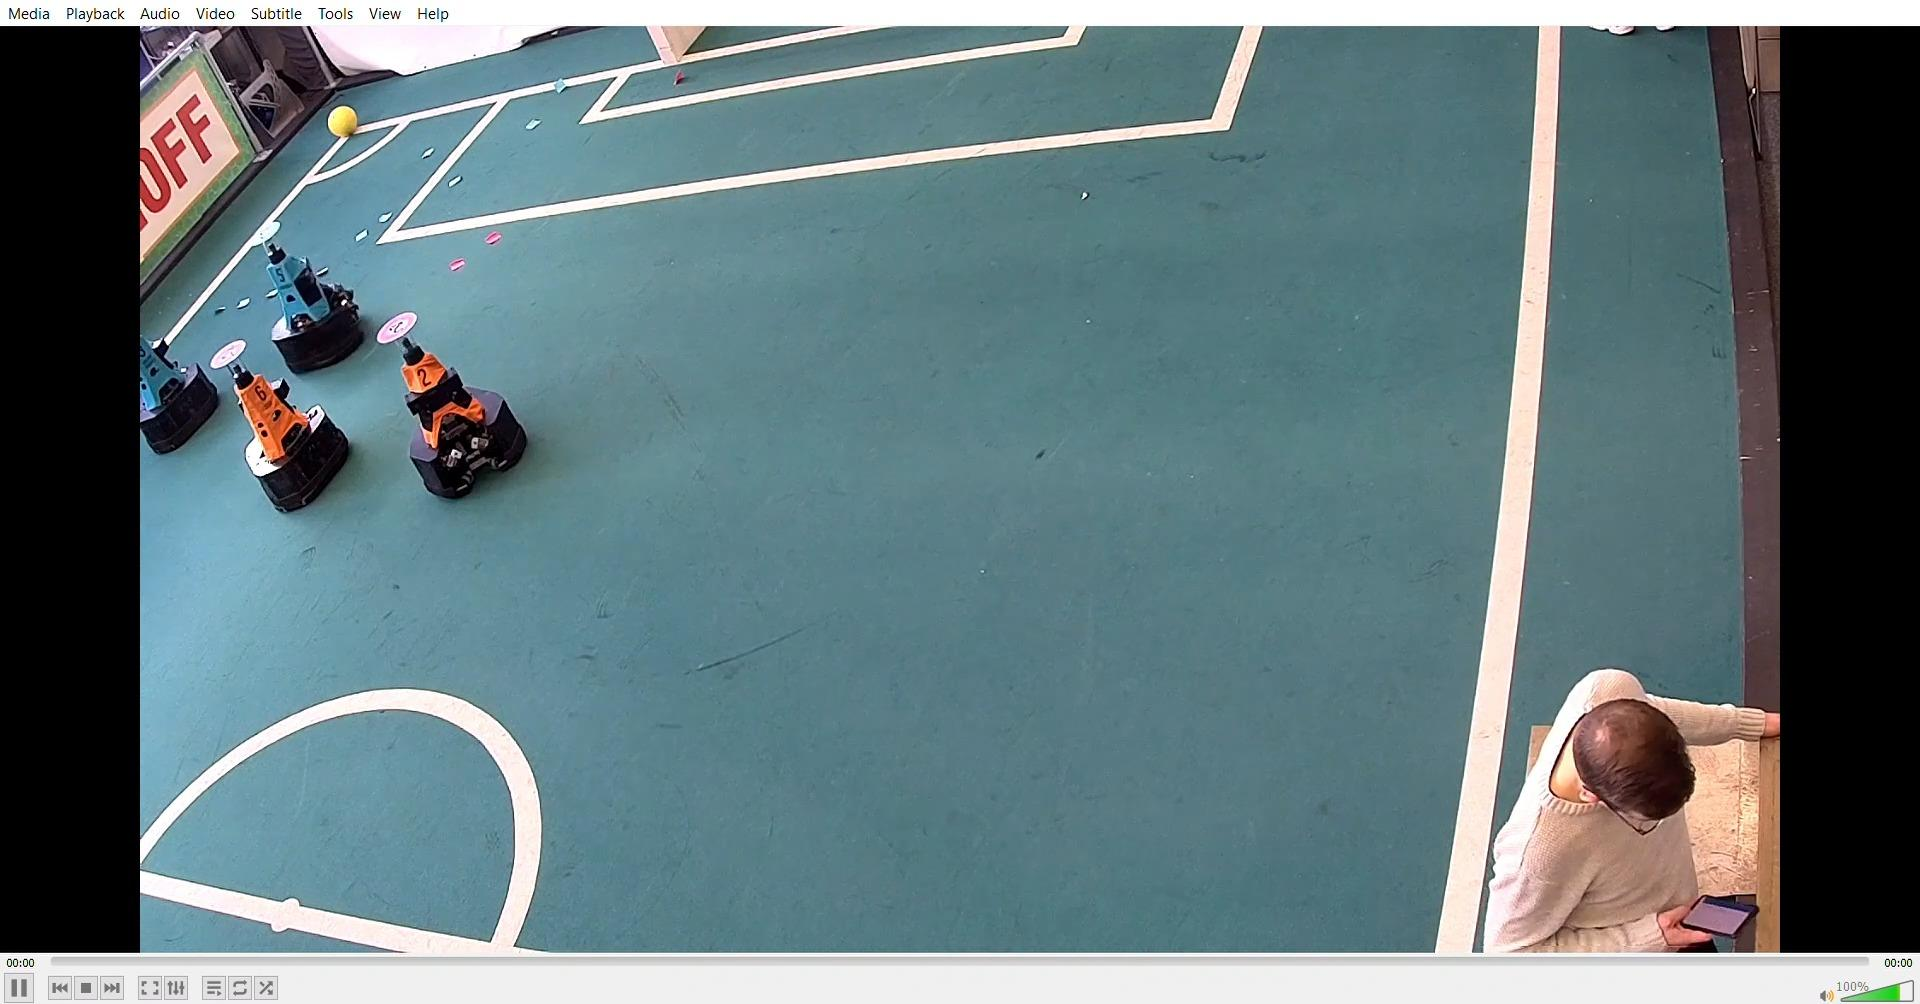Ball: (326, 107, 362, 140)
Team_Blue: (249, 218, 381, 374), (138, 319, 237, 454)
Team_Red: (380, 303, 532, 496), (211, 336, 347, 509)
